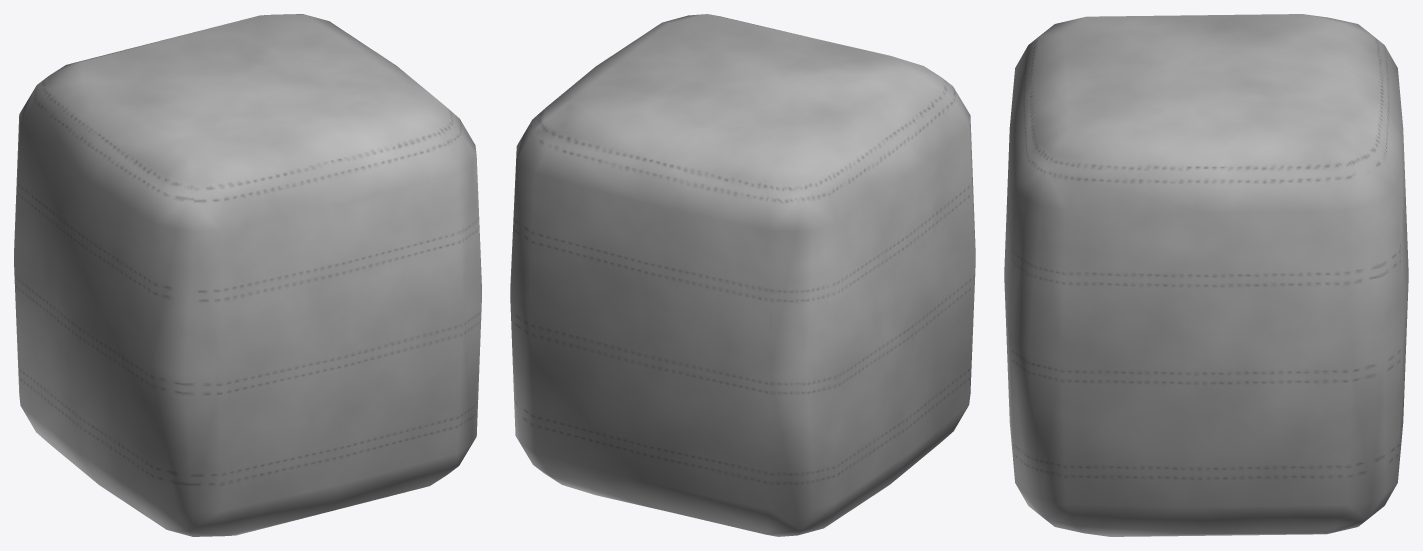
The model's file is LeftLowerLeg_C1.fbx.
3 views of the same model, side by side, from view 1: azimuth 30°, elevation 25°; view 2: azimuth 150°, elevation 25°; view 3: azimuth 270°, elevation 25° (orthographic). The views are drawn at different scales.
Visible parts, largest first — view 1: Civ_PantalonVestir_LeftLowerLeg_C1; view 2: Civ_PantalonVestir_LeftLowerLeg_C1; view 3: Civ_PantalonVestir_LeftLowerLeg_C1.
Part boxes in pixels (bbox=[...]): Civ_PantalonVestir_LeftLowerLeg_C1: bbox=[14, 14, 481, 536]; Civ_PantalonVestir_LeftLowerLeg_C1: bbox=[510, 14, 975, 536]; Civ_PantalonVestir_LeftLowerLeg_C1: bbox=[1004, 14, 1408, 536].
Bounding box in the file's own units: 1.24 × 1.37 × 1.22.
